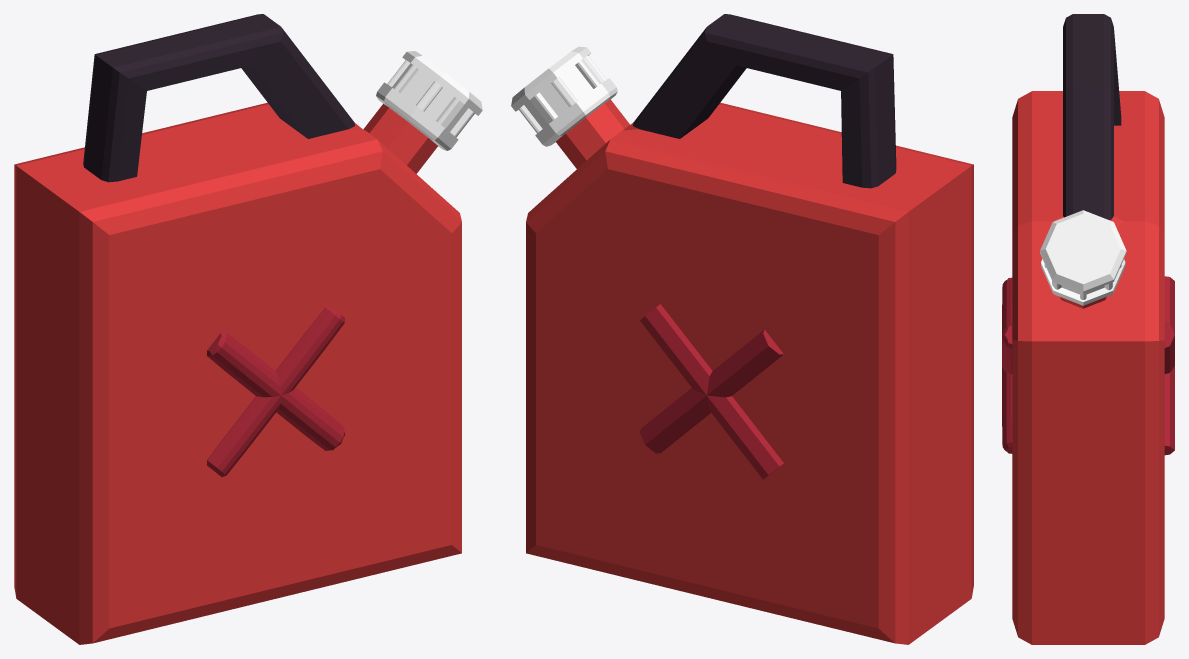
File: petrolBottle.fbx
3 views of the same model, side by side, from view 1: azimuth 30°, elevation 25°; view 2: azimuth 150°, elevation 25°; view 3: azimuth 270°, elevation 25° (orthographic). The views are drawn at different scales.
Parts seen in each view (by area): view 1: Cube, Cube.001; view 2: Cube; view 3: Cube, Cube.001.
Boxes of the visible parts, left/top/right/bottom form: Cube: left=14, top=14, right=482, bottom=644; Cube.001: left=207, top=306, right=345, bottom=476; Cube: left=511, top=14, right=973, bottom=644; Cube: left=1012, top=14, right=1174, bottom=644; Cube.001: left=1002, top=277, right=1012, bottom=453.
Size of the model in its own units: 239 by 294 by 94.17.
1 material, 1 textured.
